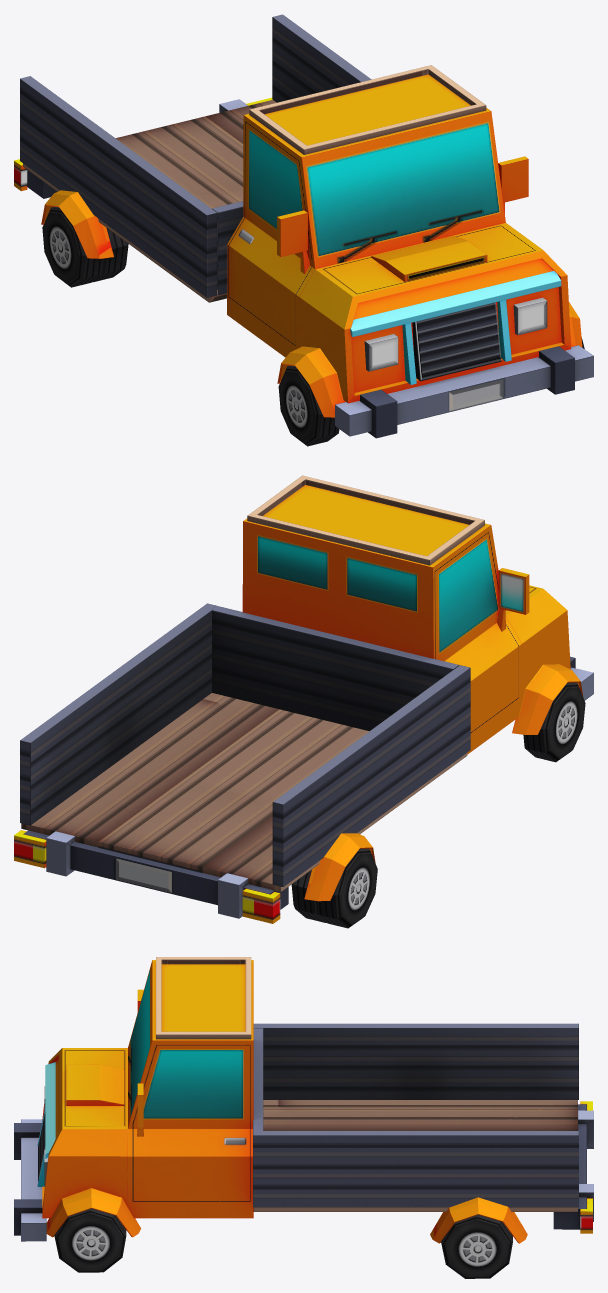
File: truck.FBX
3 views of the same model, one above another, from view 1: azimuth 30°, elevation 25°; view 2: azimuth 150°, elevation 25°; view 3: azimuth 270°, elevation 25° (orthographic). The views are drawn at different scales.
Visible parts, largest first — view 1: Truck; view 2: Truck; view 3: Truck.
Part boxes in pixels (bbox=[...]): Truck: bbox=[14, 14, 593, 446]; Truck: bbox=[14, 475, 593, 928]; Truck: bbox=[14, 957, 593, 1278].
Bounding box in the file's own units: 11.41 × 9.21 × 21.83.
